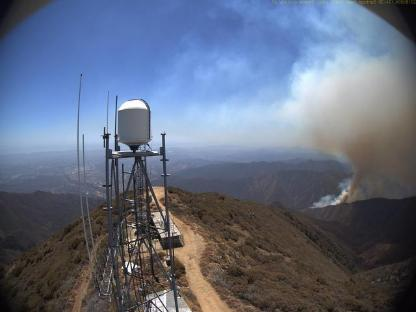smoke: (308, 46, 414, 210)
